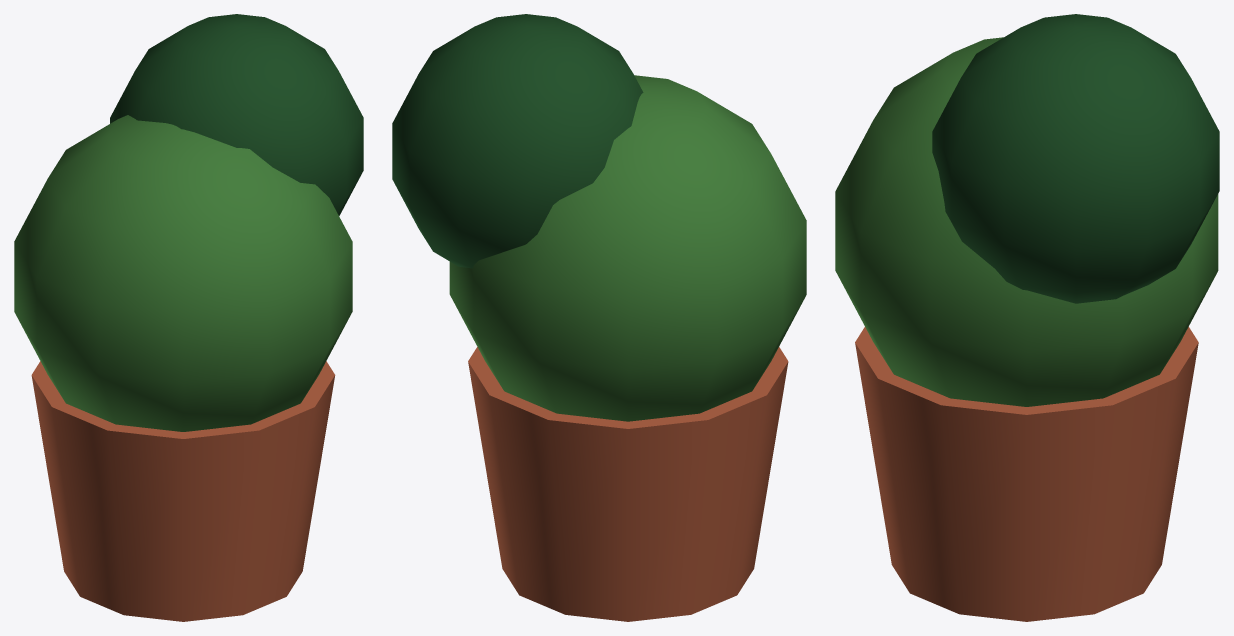
Rendered from plant_small.glb.
The picture shows the model from 3 angles, left to right: view 1: azimuth 30°, elevation 25°; view 2: azimuth 150°, elevation 25°; view 3: azimuth 270°, elevation 25°; orthographic projection. The views are drawn at different scales.
Visible parts, largest first — view 1: Part1, Part0, Part2; view 2: Part1, Part0, Part2; view 3: Part0, Part2, Part1.
Boxes of the visible parts, bbox=[...] form: Part1: bbox=[14, 115, 352, 431]; Part0: bbox=[31, 361, 335, 621]; Part2: bbox=[110, 14, 363, 215]; Part1: bbox=[449, 75, 806, 421]; Part0: bbox=[468, 347, 788, 621]; Part2: bbox=[392, 14, 643, 268]; Part0: bbox=[855, 327, 1198, 621]; Part2: bbox=[932, 14, 1219, 303]; Part1: bbox=[835, 37, 1218, 406].
Bounding box in the file's own units: 0.1765 × 0.26 × 0.1565.
